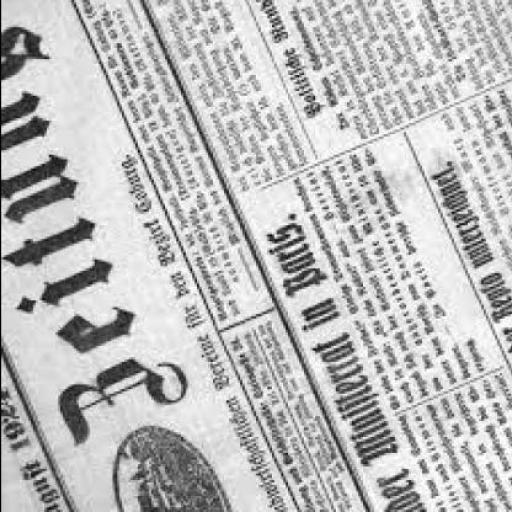paper: (1, 2, 510, 511)
